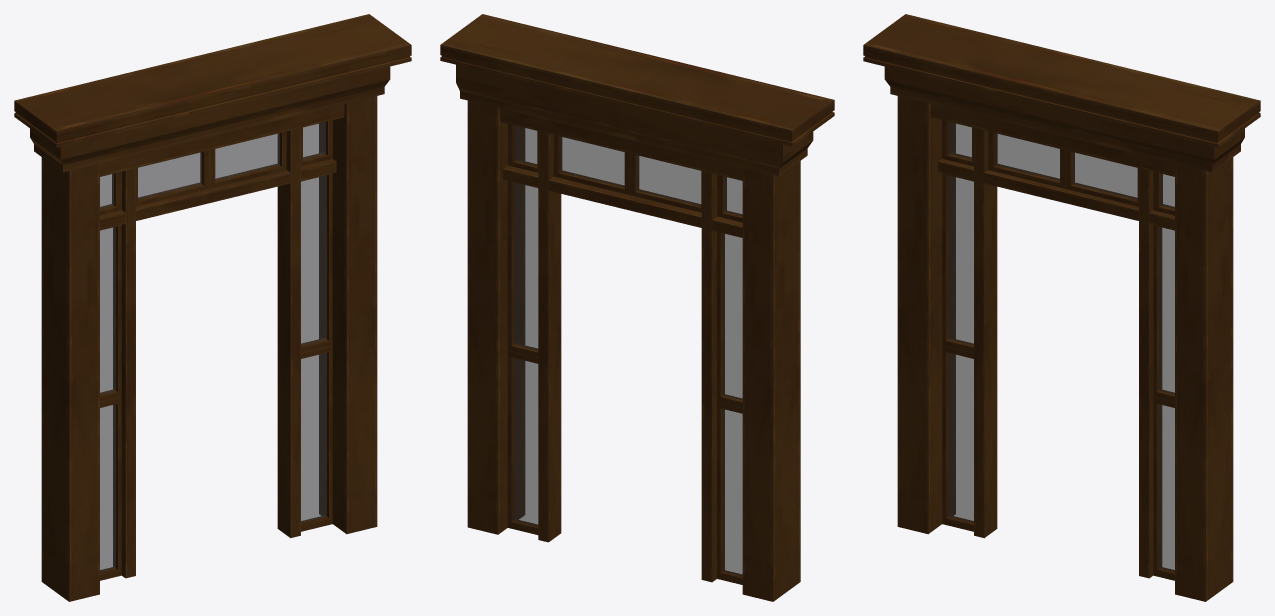
The model's file is DoorFrame_Wooden.glb.
3 views of the same model, side by side, from view 1: azimuth 30°, elevation 25°; view 2: azimuth 150°, elevation 25°; view 3: azimuth 330°, elevation 25° (orthographic).
Parts seen in each view (by area): view 1: DoorFrame_Wooden; view 2: DoorFrame_Wooden; view 3: DoorFrame_Wooden.
Part boxes in pixels (x1,y1,x2,y2): DoorFrame_Wooden: [14, 14, 411, 601]; DoorFrame_Wooden: [440, 14, 834, 601]; DoorFrame_Wooden: [863, 14, 1260, 601].
Bounding box in the file's own units: 2.3 × 3 × 0.4778.
Materials: 2 (1 with a texture image).
